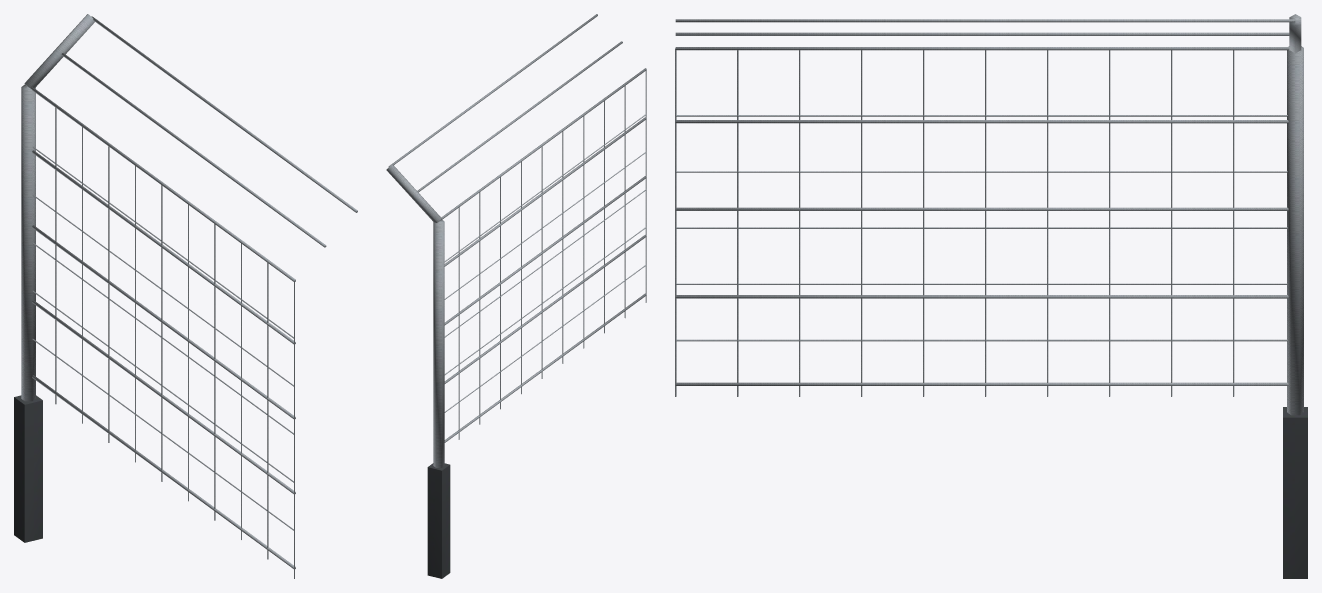
File: street-fence_mobile.glb
3 renders of one model, left to right at view 1: azimuth 30°, elevation 25°; view 2: azimuth 150°, elevation 25°; view 3: azimuth 270°, elevation 25°, orthographic. The views are drawn at different scales.
Visible parts, largest first — view 1: galvanised, dark-steel; view 2: galvanised, dark-steel; view 3: galvanised, dark-steel.
Boxes of the visible parts, x1=… form: galvanised: x1=21, y1=14, x2=357, y2=578; dark-steel: x1=14, y1=395, x2=42, y2=542; galvanised: x1=386, y1=14, x2=646, y2=467; dark-steel: x1=427, y1=463, x2=450, y2=578; galvanised: x1=675, y1=14, x2=1303, y2=415; dark-steel: x1=1283, y1=407, x2=1307, y2=578.
Bounding box in the file's own units: 0.6585 × 4.23 × 4.08.
2 materials, 2 textured.
